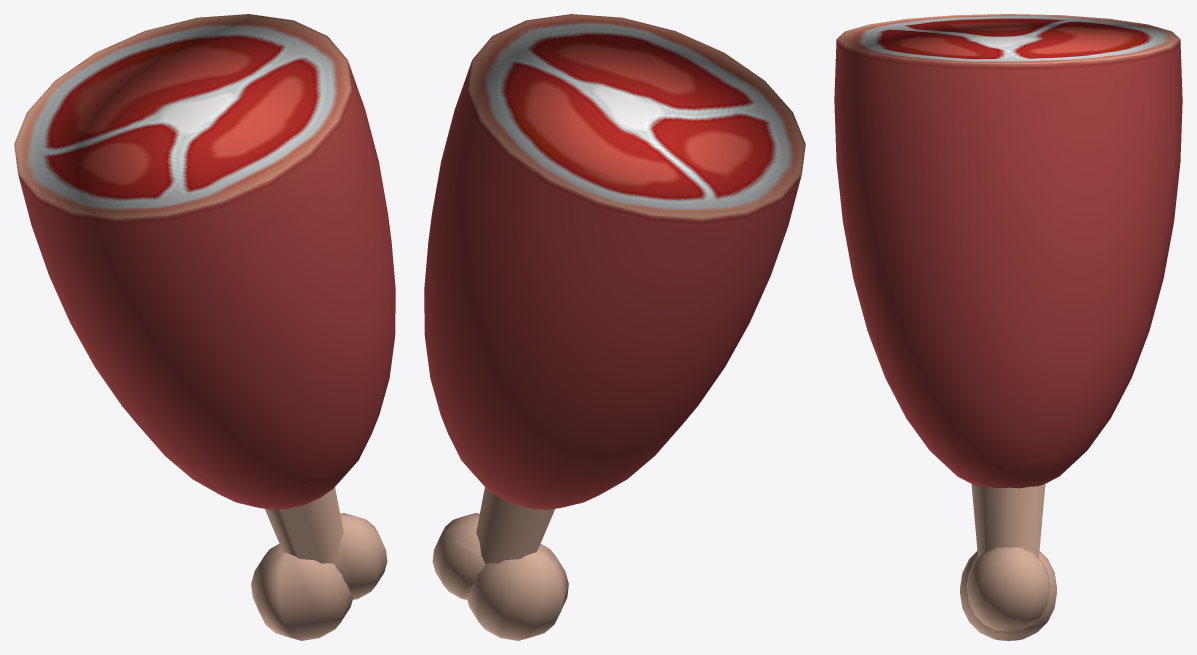
Rendered from Meat.fbx.
3 renders of one model, left to right at view 1: azimuth 30°, elevation 25°; view 2: azimuth 150°, elevation 25°; view 3: azimuth 270°, elevation 25°, orthographic.
Parts seen in each view (by area): view 1: Meat1; view 2: Meat1; view 3: Meat1.
Boxes of the visible parts, <box> form: Meat1: <box>14,14,395,640</box>; Meat1: <box>424,14,805,640</box>; Meat1: <box>834,14,1182,640</box>.
Bounding box in the file's own units: 27.56 × 45.48 × 24.56.
Materials: 1 (1 with a texture image).
